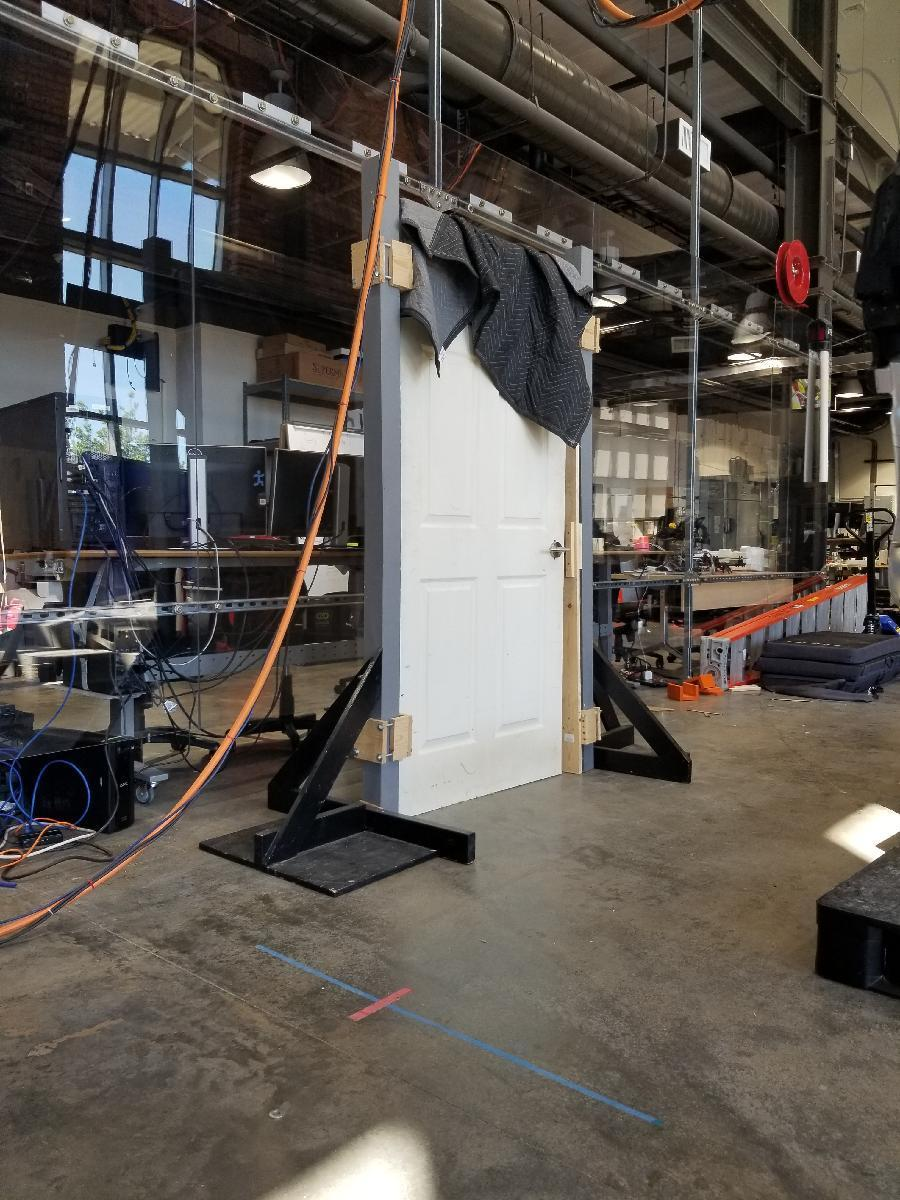door: (397, 200, 566, 820)
handle: (538, 539, 569, 561)
